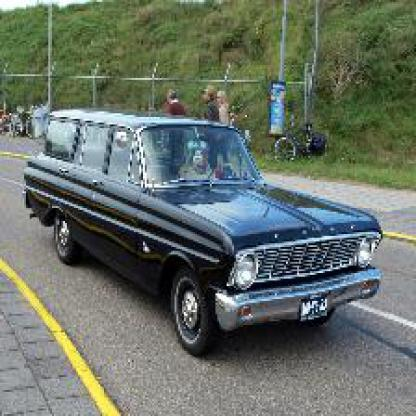not_emergency: (28, 98, 392, 358)
